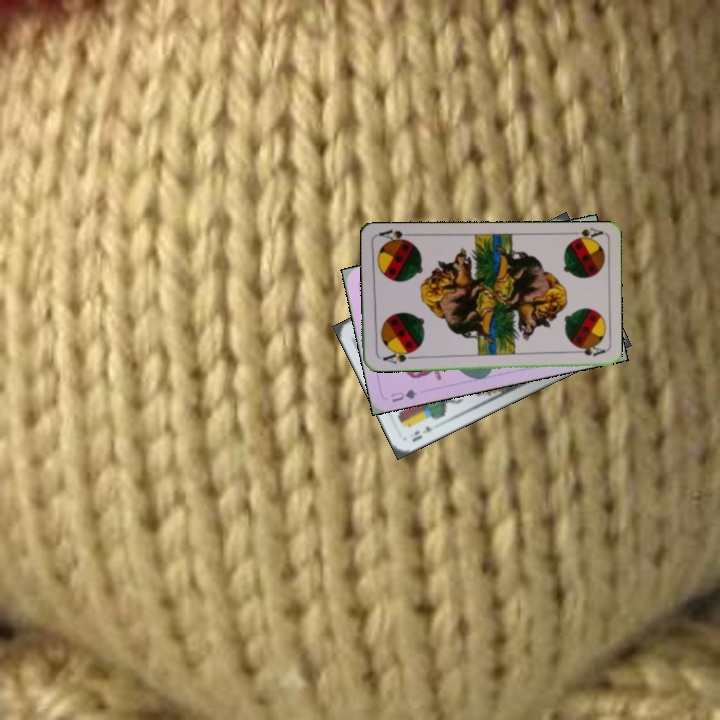EK: (408, 421, 443, 444)
GU: (386, 385, 420, 405)
SA: (564, 225, 605, 245), (379, 347, 417, 367)
